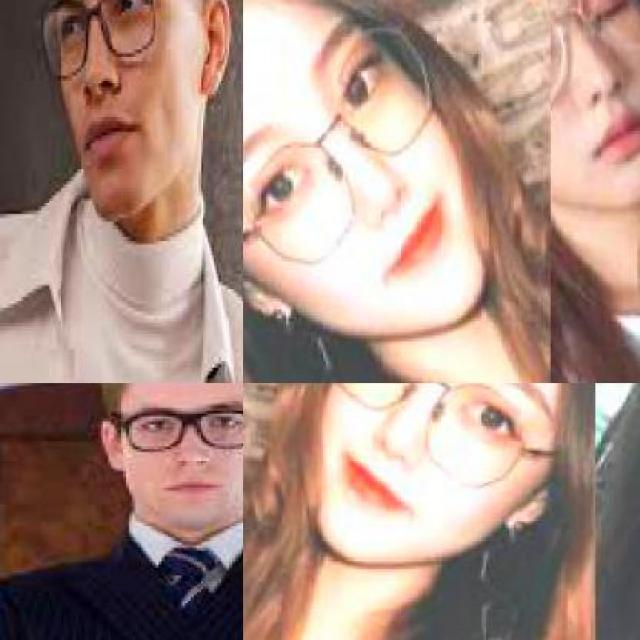glasses: (236, 34, 430, 270), (311, 383, 560, 490), (37, 0, 157, 82), (551, 0, 640, 95), (120, 397, 242, 460)
